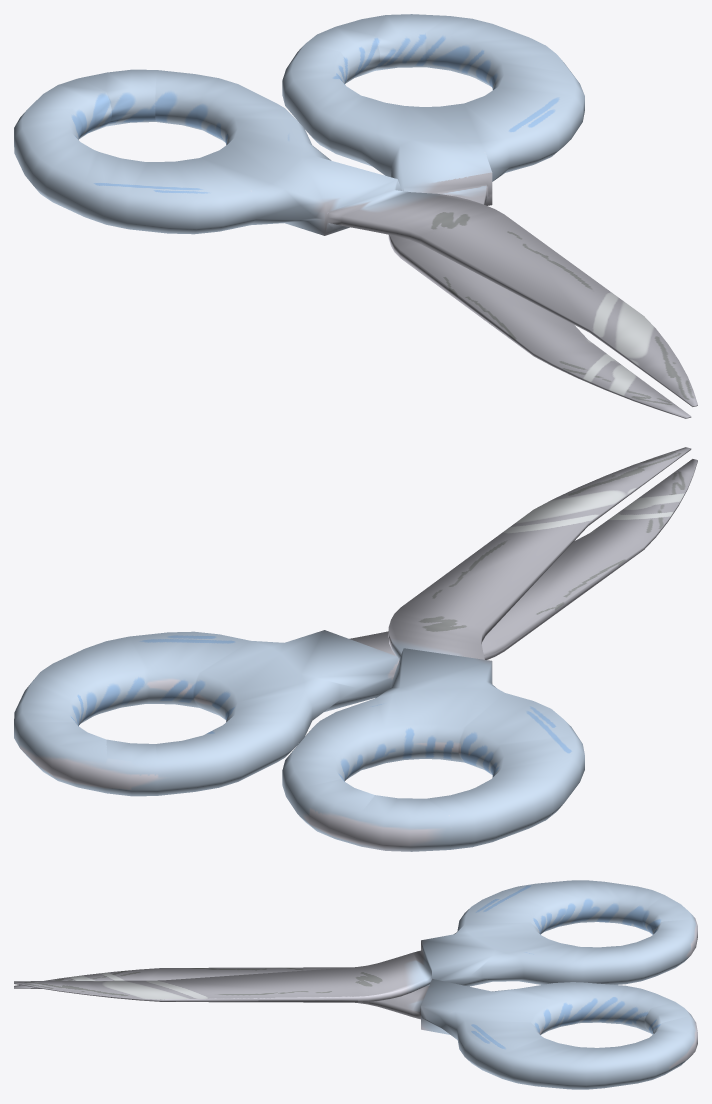
The model's file is F_scissor.fbx.
The picture shows the model from 3 angles, top to bottom: view 1: azimuth 30°, elevation 25°; view 2: azimuth 150°, elevation 25°; view 3: azimuth 270°, elevation 25°; orthographic projection. The views are drawn at different scales.
Parts seen in each view (by area): view 1: Scissor; view 2: Scissor; view 3: Scissor.
Boxes of the visible parts, box(x1,y1,x2,y2) form: Scissor: box(14, 14, 697, 418); Scissor: box(14, 447, 697, 851); Scissor: box(14, 880, 697, 1089).
Bounding box in the file's own units: 2607 × 216 × 4141.
